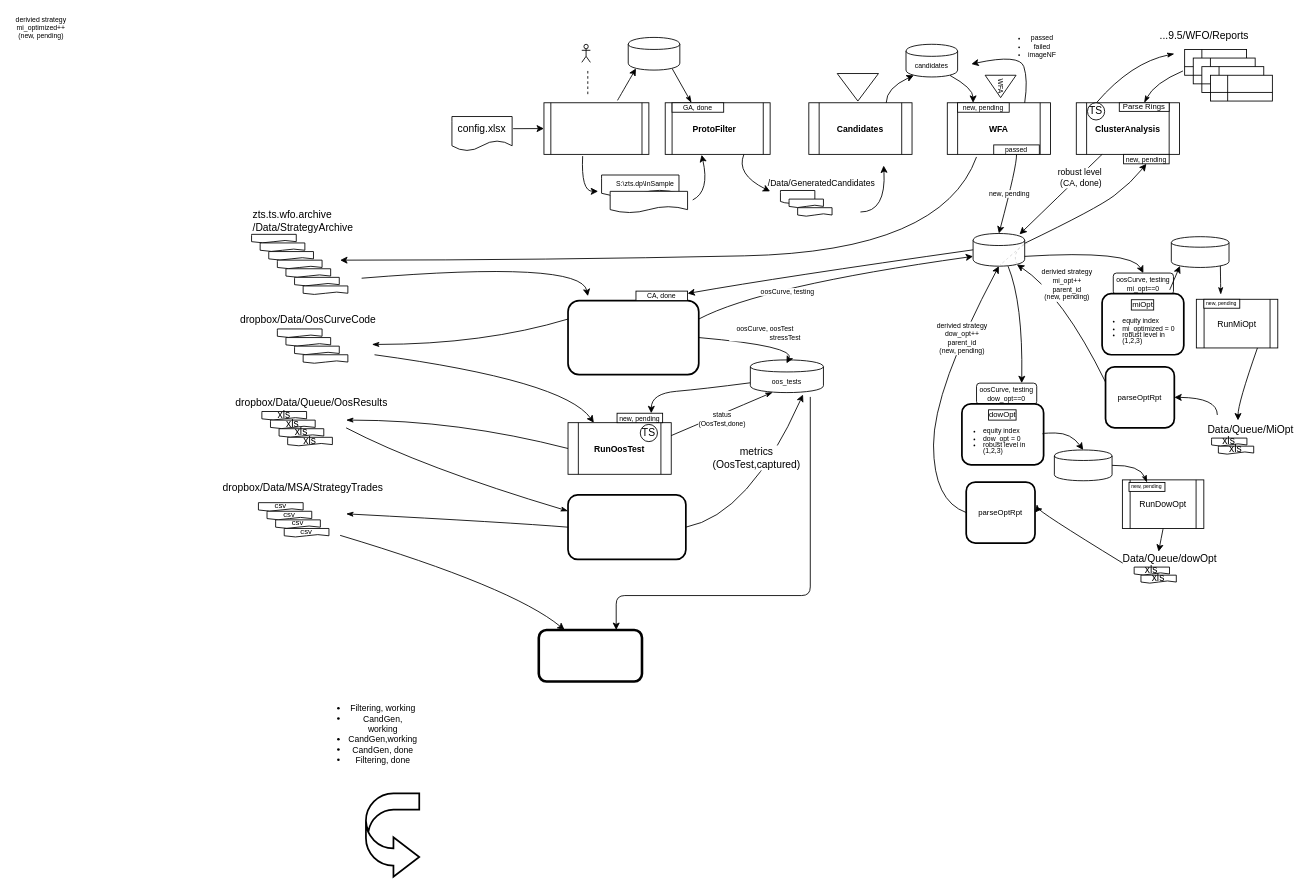
Some shapes in this 1309 by 892 pixel diagram are drawn without their labels. Here are the shapes that lost their labels. From the top down, the centre of each, then its label:
[653,53]: prototypes
[857,87]: CAND
[596,128]: Prototype
[648,201]: S:\zts.dp\OutOfSample
[998,249]: strategies
[1199,251]: mi_optimizations
[633,337]: oosCurve add transaction costs gen oos curve code add OOS test add Stress Tests
[1083,465]: dow_opt
[626,527]: captureData
[590,655]: MSA
